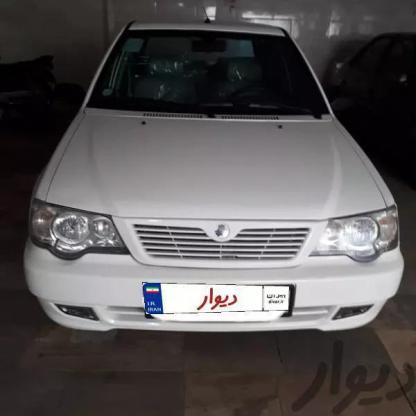Car: (13, 17, 406, 348)
